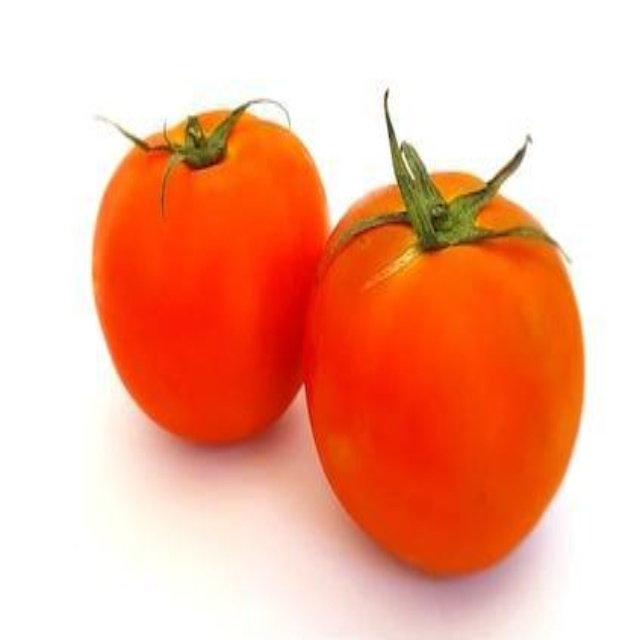tomato: (301, 170, 585, 571), (82, 102, 314, 448)
